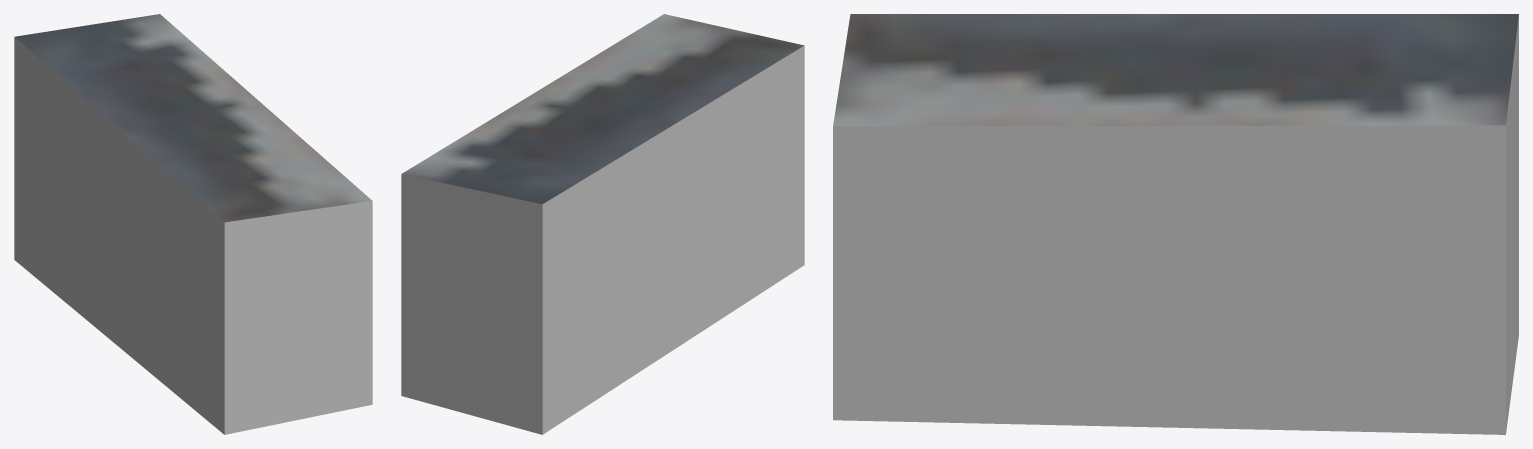
File: DEBW_0010007THvD.gltf
3 views of the same model, side by side, from view 1: azimuth 30°, elevation 25°; view 2: azimuth 150°, elevation 25°; view 3: azimuth 270°, elevation 25° (orthographic). The views are drawn at different scales.
Parts seen in each view (by area): view 1: Z_UP; view 2: Z_UP; view 3: Z_UP.
Boxes of the visible parts, x1,y1,x2,y2 form: Z_UP: (14,14,372,434); Z_UP: (401,14,804,434); Z_UP: (833,14,1518,434).
Size of the model in its own units: 1.87 by 2.45 by 4.73.
Materials: 2 (1 with a texture image).
